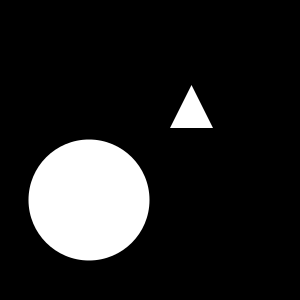rectangle: (29, 140, 150, 260), (81, 184, 101, 204)
triangle: (170, 85, 213, 128), (94, 146, 128, 180)
